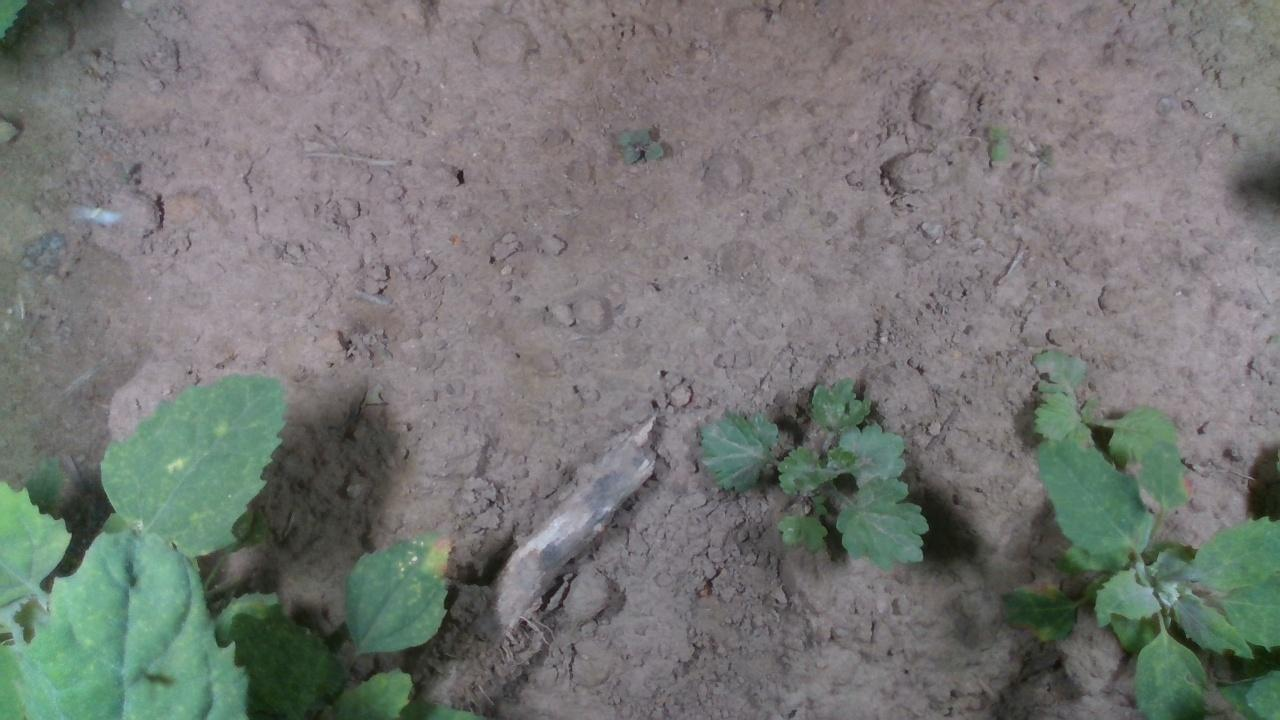weed: (614, 125, 663, 168), (984, 120, 1014, 165)
